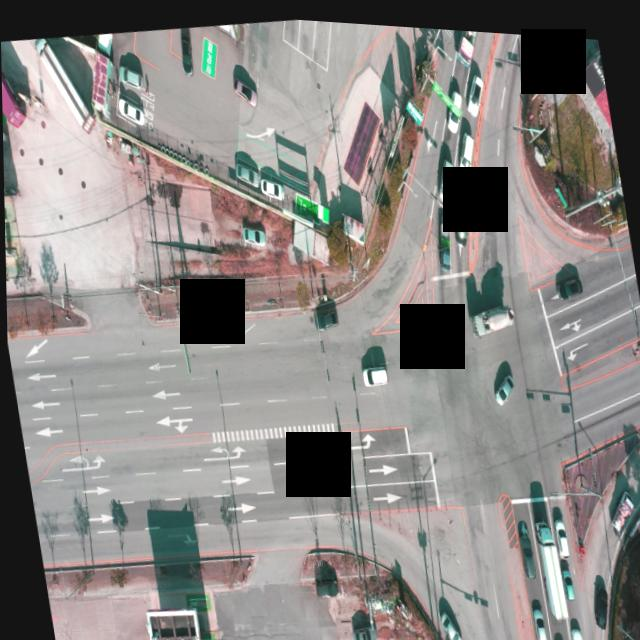car: (587, 574, 613, 626), (453, 124, 480, 172), (440, 80, 466, 129), (432, 150, 457, 199), (460, 68, 487, 113), (515, 523, 535, 573), (232, 71, 259, 104), (118, 59, 146, 90), (116, 93, 142, 126), (438, 605, 462, 640), (491, 366, 516, 399), (450, 196, 469, 237), (554, 267, 583, 293), (233, 156, 258, 184), (530, 597, 546, 640), (258, 173, 283, 200), (177, 34, 193, 74), (552, 511, 568, 551), (359, 360, 387, 382), (242, 220, 267, 244), (312, 305, 336, 327), (312, 574, 335, 596), (560, 560, 573, 594), (351, 621, 371, 640), (568, 619, 582, 639)
medium_truck: (34, 35, 93, 139), (533, 512, 563, 612), (469, 294, 513, 330), (449, 24, 488, 62)
small_truck: (602, 478, 635, 529), (433, 210, 456, 270)
